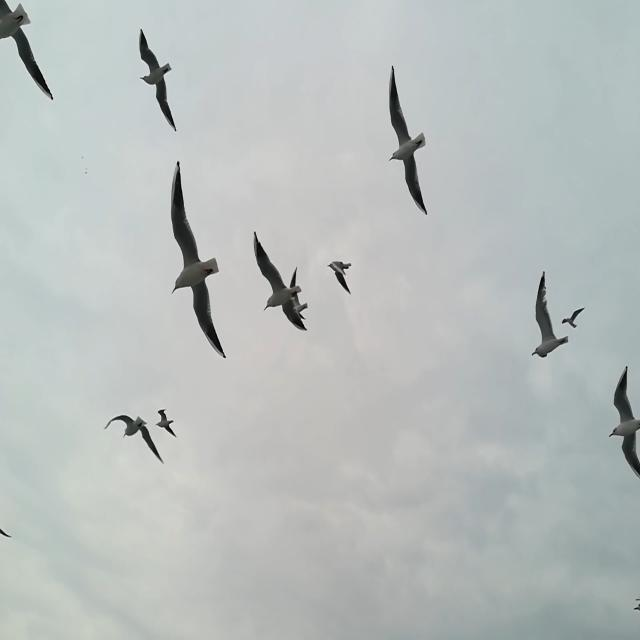bird: (169, 160, 225, 359), (386, 68, 427, 216), (0, 3, 54, 102), (254, 233, 308, 328), (605, 364, 640, 488), (138, 30, 178, 132), (530, 272, 570, 361), (103, 413, 166, 464), (289, 264, 313, 328), (327, 258, 353, 296), (156, 407, 178, 438), (562, 307, 587, 328), (633, 594, 640, 615), (0, 526, 12, 538)
